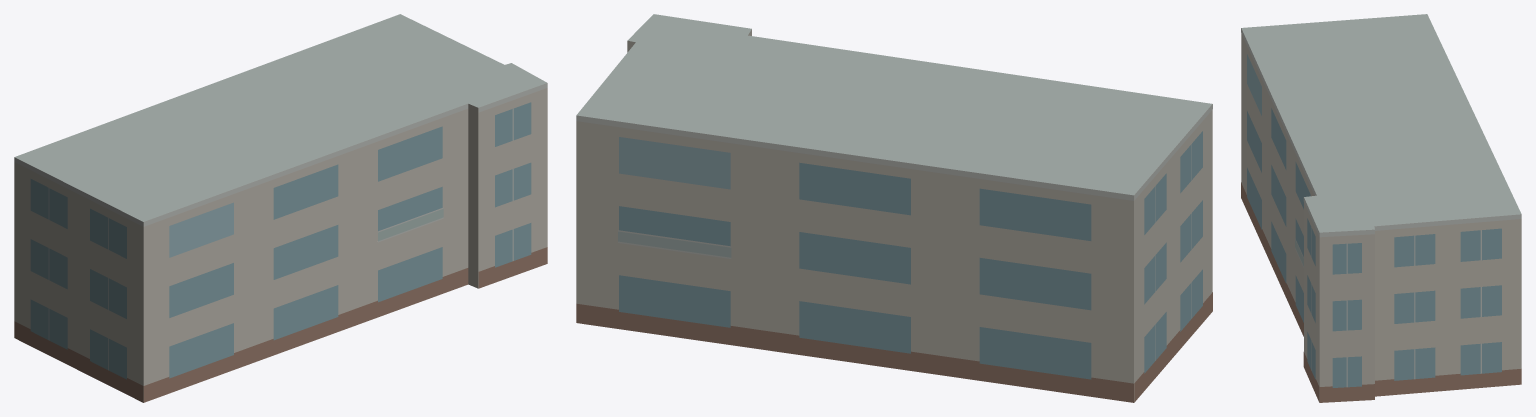
The model's file is survey-upis-32735648.glb.
The picture shows the model from 3 angles, left to right: view 1: azimuth 30°, elevation 25°; view 2: azimuth 150°, elevation 25°; view 3: azimuth 270°, elevation 25°; orthographic projection. The views are drawn at different scales.
Visible parts, largest first — view 1: survey-upis-32735648.tmp; view 2: survey-upis-32735648.tmp; view 3: survey-upis-32735648.tmp.
Boxes of the visible parts, x1,y1,x2,y2 form: survey-upis-32735648.tmp: (14, 14, 547, 402); survey-upis-32735648.tmp: (576, 14, 1212, 402); survey-upis-32735648.tmp: (1241, 14, 1521, 402).
Bounding box in the file's own units: 24.8 × 9 × 13.45.
